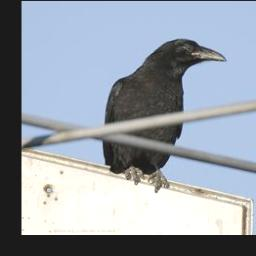Crow: (101, 37, 229, 192)
